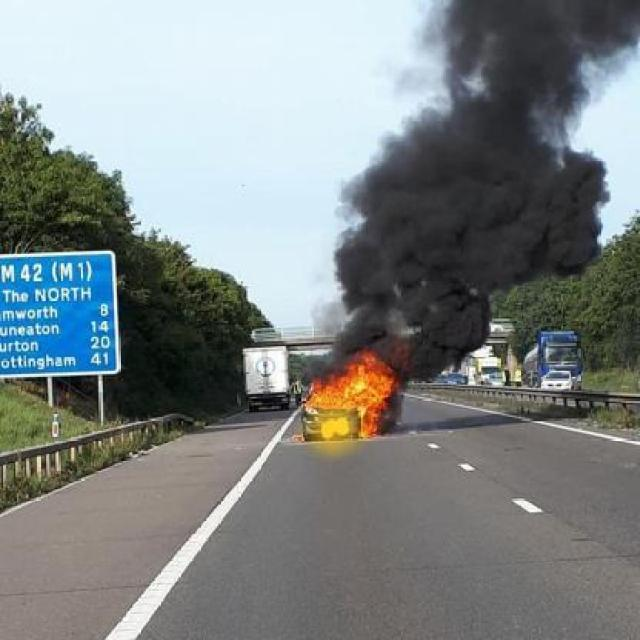Fire: (273, 348, 414, 442)
Smoke: (327, 6, 640, 363)
